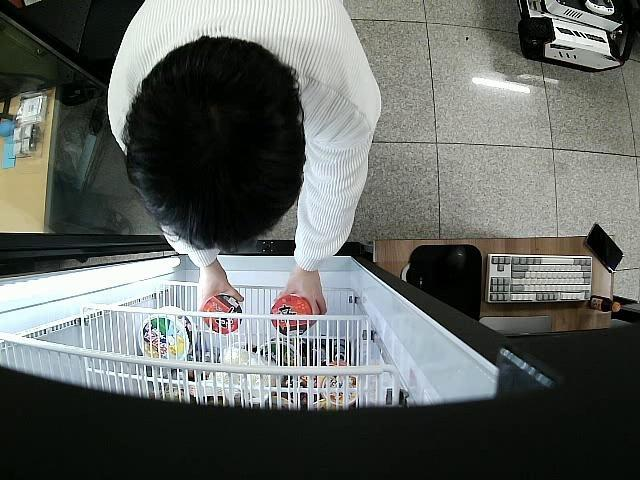02_shinRamen_S: (272, 294, 314, 338), (202, 292, 242, 334)
